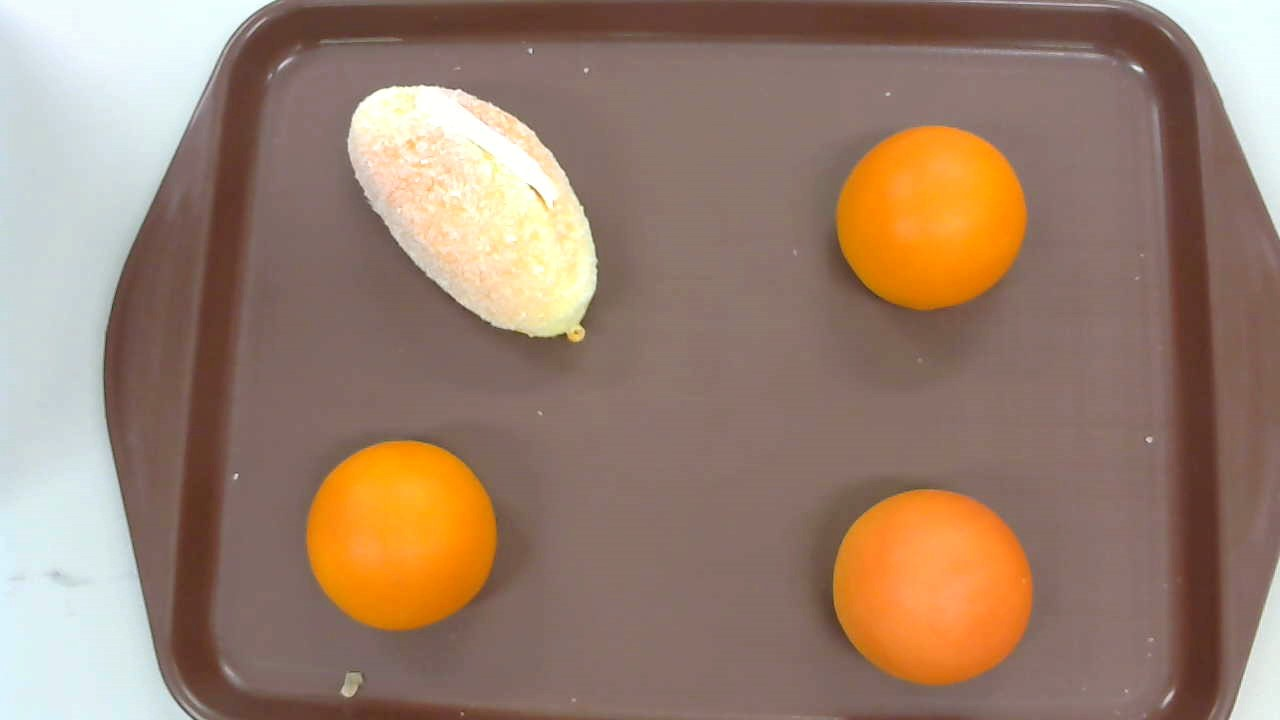bun: (831, 485, 1034, 687), (305, 438, 497, 632), (836, 123, 1028, 311)
coconut: (347, 84, 600, 343)
